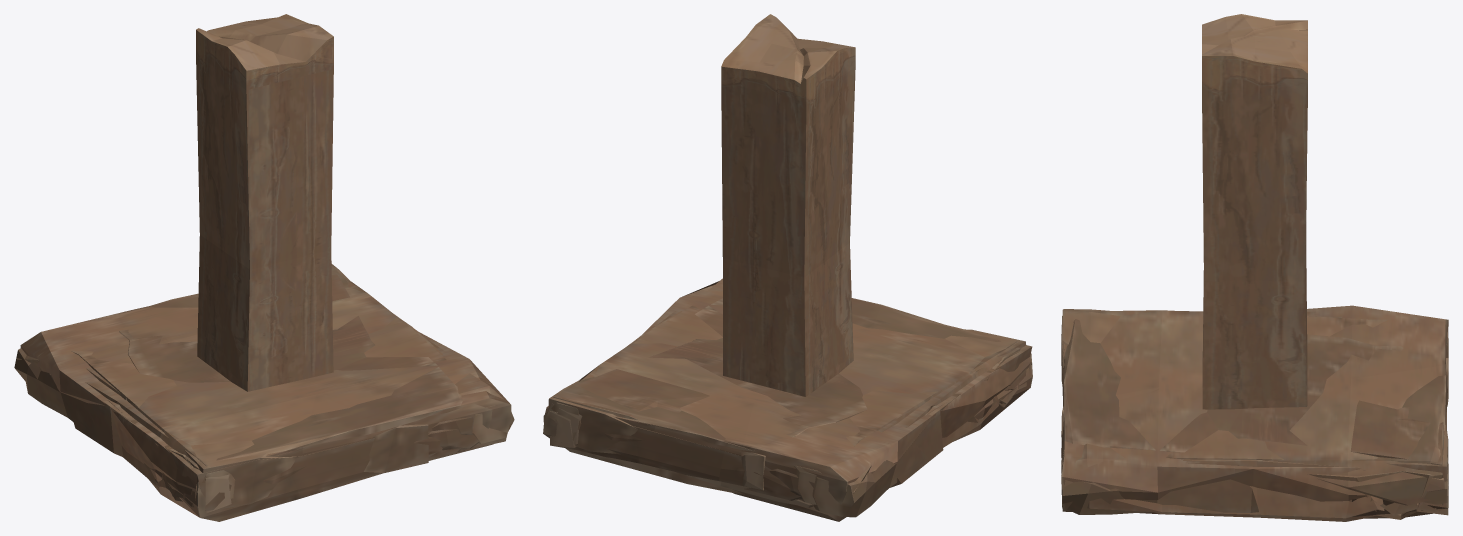
File: farmlands-bridge-parts.glb
The picture shows the model from 3 angles, left to right: view 1: azimuth 30°, elevation 25°; view 2: azimuth 150°, elevation 25°; view 3: azimuth 270°, elevation 25°; orthographic projection. The views are drawn at different scales.
Parts seen in each view (by area): view 1: Bridge_Tower, Bridge_Plank_1, Bridge_Plank_8, Bridge_Plank_4, Bridge_Plank_5, Bridge_Plank_3, Bridge_Plank_0, Bridge_Plank_7, Bridge_Plank_6, Bridge_Plank_2; view 2: Bridge_Tower, Bridge_Plank_1, Bridge_Plank_3, Bridge_Plank_5, Bridge_Plank_8, Bridge_Plank_4, Bridge_Plank_2, Bridge_Plank_0, Bridge_Plank_6, Bridge_Plank_7; view 3: Bridge_Tower, Bridge_Plank_1, Bridge_Plank_4, Bridge_Plank_3, Bridge_Plank_8, Bridge_Plank_5, Bridge_Plank_7, Bridge_Plank_6, Bridge_Plank_2, Bridge_Plank_0.
Part boxes in pixels (left/top/right/bottom): Bridge_Tower: left=196, top=14, right=333, bottom=391; Bridge_Plank_1: left=20, top=278, right=514, bottom=491; Bridge_Plank_8: left=86, top=368, right=492, bottom=495; Bridge_Plank_4: left=14, top=314, right=511, bottom=483; Bridge_Plank_5: left=178, top=357, right=463, bottom=498; Bridge_Plank_3: left=119, top=274, right=428, bottom=500; Bridge_Plank_0: left=148, top=266, right=464, bottom=521; Bridge_Plank_7: left=17, top=316, right=503, bottom=511; Bridge_Plank_6: left=70, top=350, right=478, bottom=507; Bridge_Plank_2: left=107, top=264, right=493, bottom=513; Bridge_Tower: left=721, top=14, right=855, bottom=396; Bridge_Plank_1: left=579, top=311, right=1031, bottom=504; Bridge_Plank_3: left=553, top=338, right=1030, bottom=490; Bridge_Plank_5: left=543, top=298, right=1032, bottom=500; Bridge_Plank_8: left=545, top=323, right=1026, bottom=504; Bridge_Plank_4: left=565, top=281, right=989, bottom=517; Bridge_Plank_2: left=547, top=305, right=1020, bottom=499; Bridge_Plank_0: left=543, top=353, right=1032, bottom=507; Bridge_Plank_6: left=549, top=329, right=1027, bottom=504; Bridge_Plank_7: left=550, top=278, right=1032, bottom=521; Bridge_Tower: left=1202, top=14, right=1307, bottom=409; Bridge_Plank_1: left=1061, top=305, right=1448, bottom=514; Bridge_Plank_4: left=1061, top=311, right=1448, bottom=518; Bridge_Plank_3: left=1061, top=334, right=1448, bottom=505; Bridge_Plank_8: left=1061, top=310, right=1448, bottom=491; Bridge_Plank_5: left=1061, top=316, right=1448, bottom=516; Bridge_Plank_7: left=1061, top=310, right=1448, bottom=518; Bridge_Plank_6: left=1061, top=309, right=1448, bottom=521; Bridge_Plank_2: left=1061, top=325, right=1448, bottom=515; Bridge_Plank_0: left=1062, top=364, right=1447, bottom=504.
Size of the model in its own units: 1 by 1.18 by 1.
2 materials, 2 textured.
